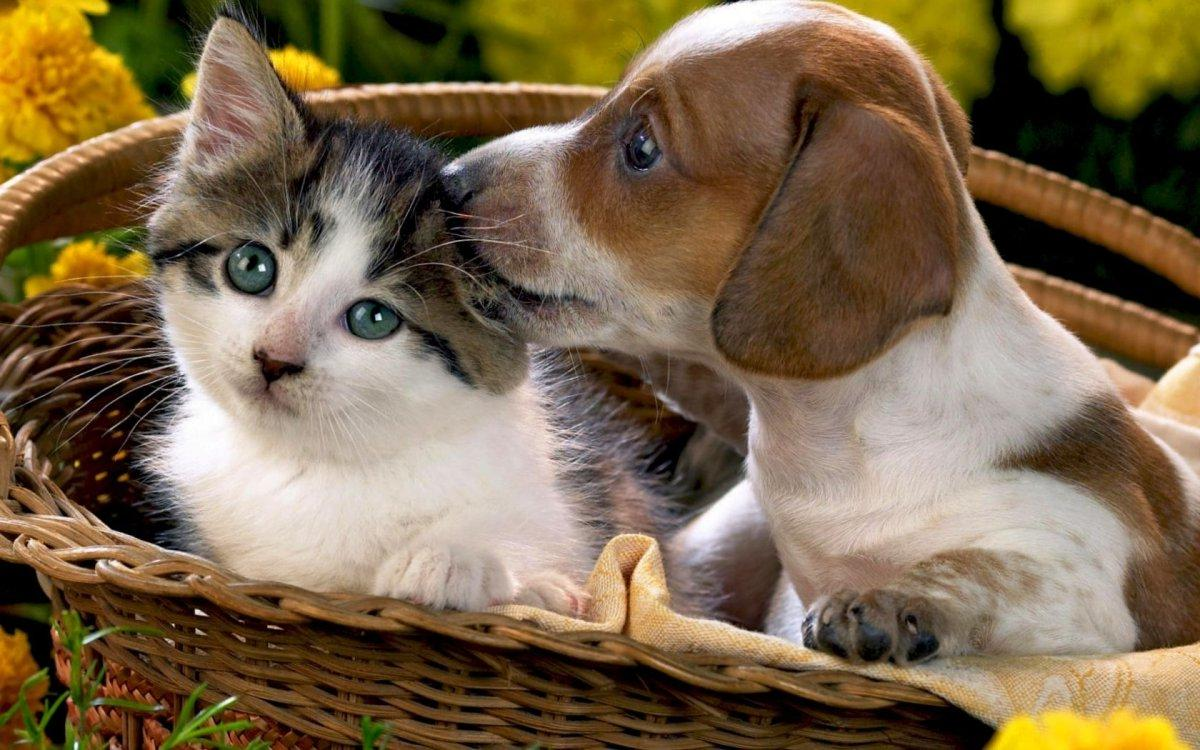animals: (449, 2, 1177, 664), (134, 2, 652, 659)
